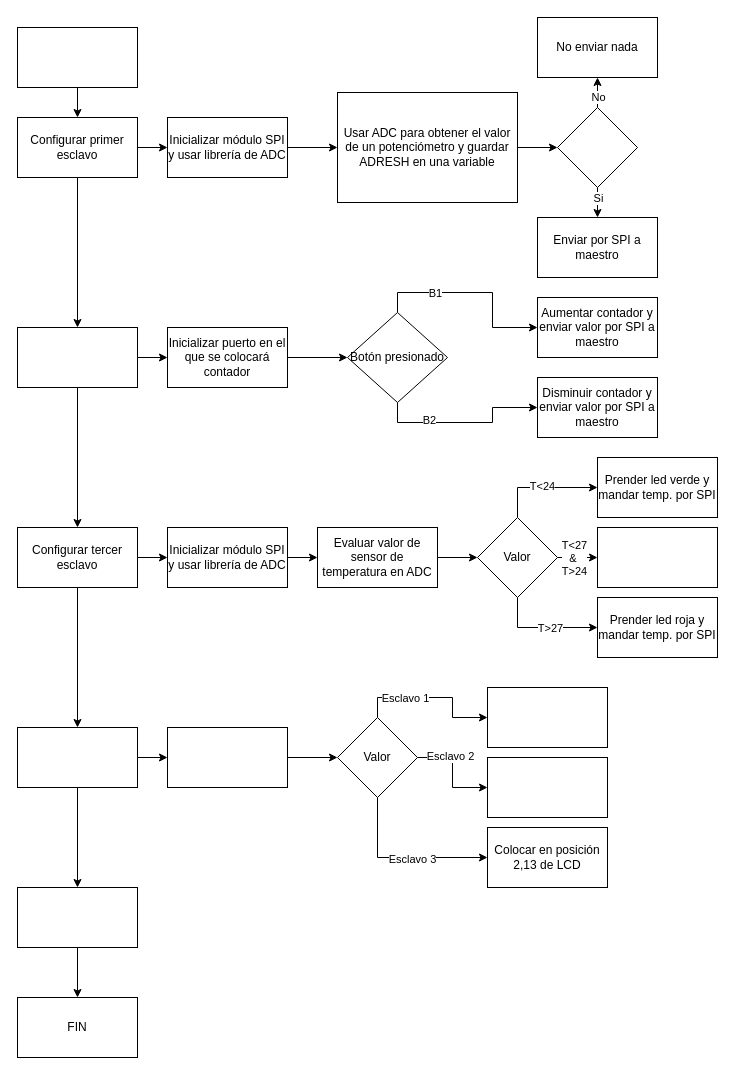
Some shapes in this 735 by 1075 pixel diagram are drawn without their labels. The centre of each missing label's shape, as x and y in pixels:
"ADRESH recibido?" belongs at pixel 597 147.
"Colocar en posición 2,1 de LCD" belongs at pixel 547 717.
"Colocar en posición 2,7 de LCD" belongs at pixel 547 787.
"Configurar maestro con librería LCD" belongs at pixel 77 757.
"Configurar segundo esclavo" belongs at pixel 77 357.
"Inicio" belongs at pixel 77 57.
"Prender led amarilla y mandar temp. por SPI" belongs at pixel 657 557.
"Recibir todos los valores de los esclavos" belongs at pixel 227 757.
"Usar USART para plasmar todos los valores en tiempo real en LCD." belongs at pixel 77 917.
